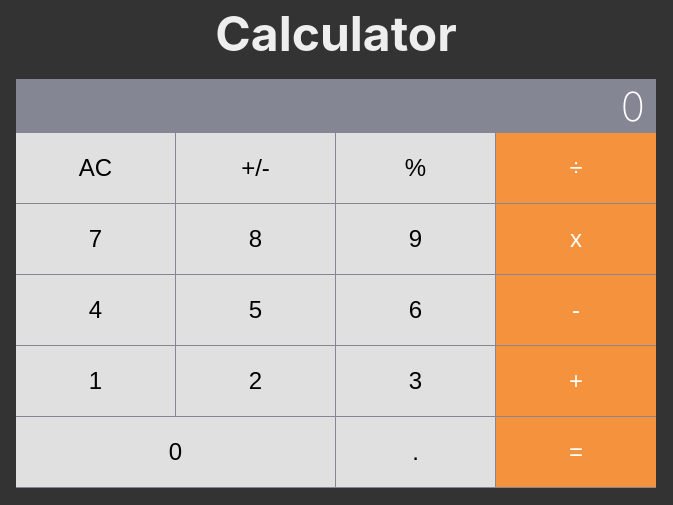
Scenario: tests calculation › test clear
The image size is (673, 505).
Click the button "1" at (96, 381), box [16,346,175,416]
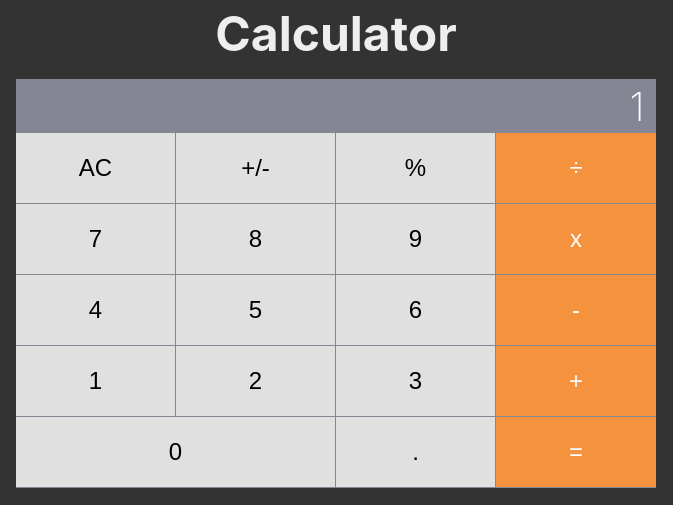
Click the button "0" at (176, 452), box [16,417,335,487]
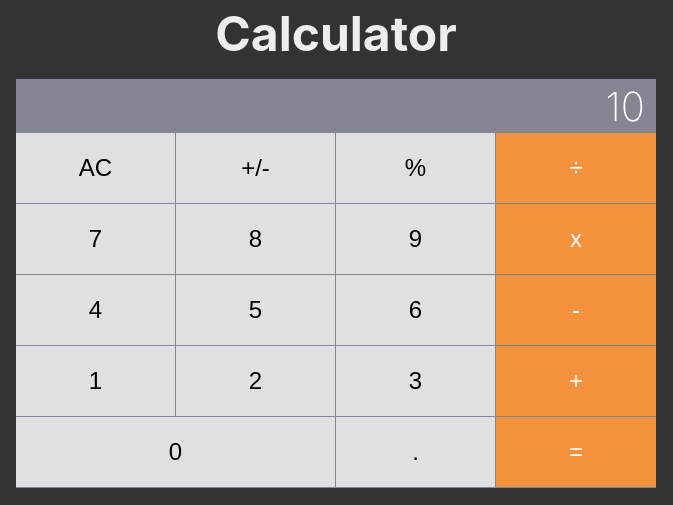
Click the button "8" at (256, 239), box [176,204,335,274]
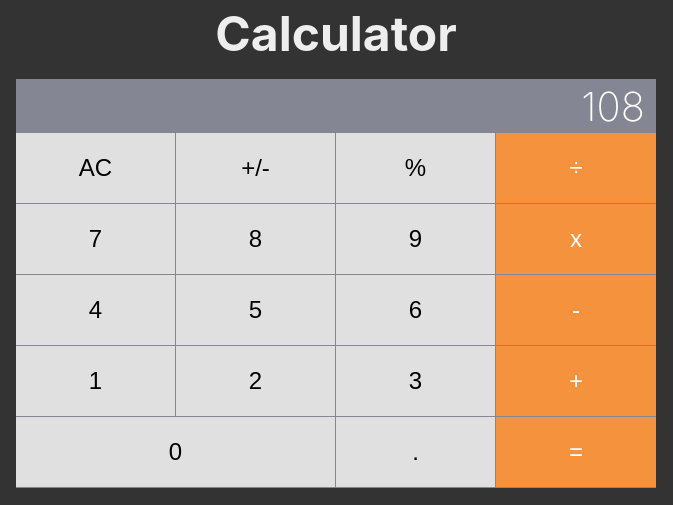
Click the button with id "btn-AC" at (96, 168), box [16,133,175,203]
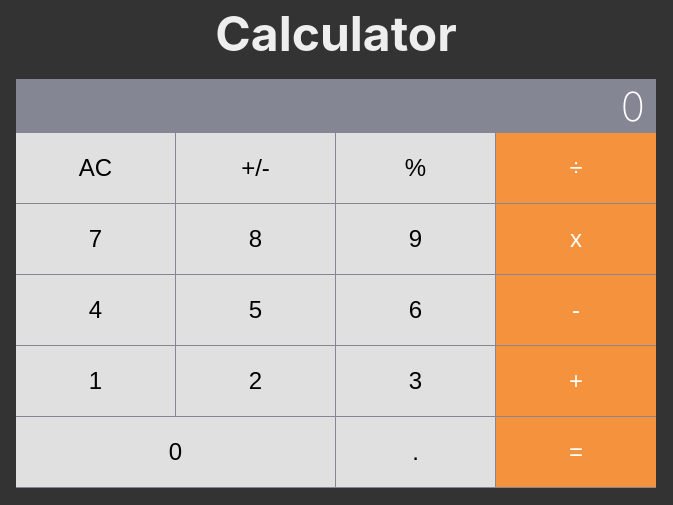
Check: the text with id "display" reads "0", box [621,82,645,131]
